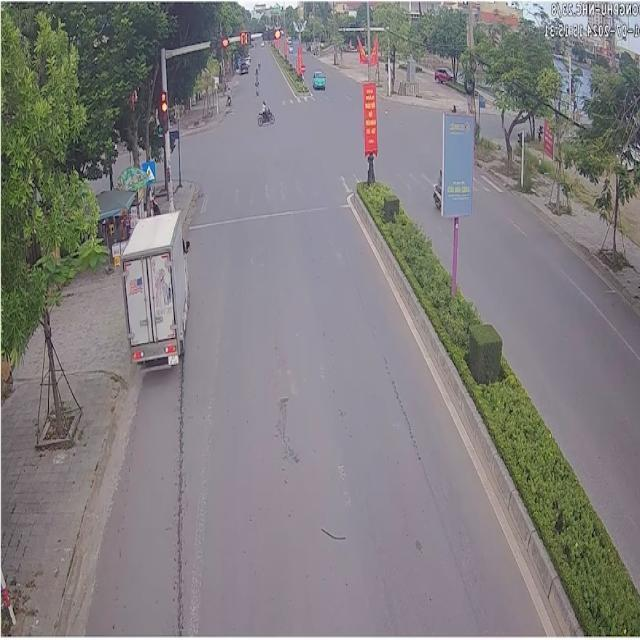car: (120, 211, 187, 367), (310, 68, 323, 88)
motobike: (256, 99, 273, 124)
red_light: (161, 91, 167, 137), (209, 36, 231, 48), (263, 24, 280, 39), (239, 29, 250, 46)
stop_line: (187, 203, 346, 227)
